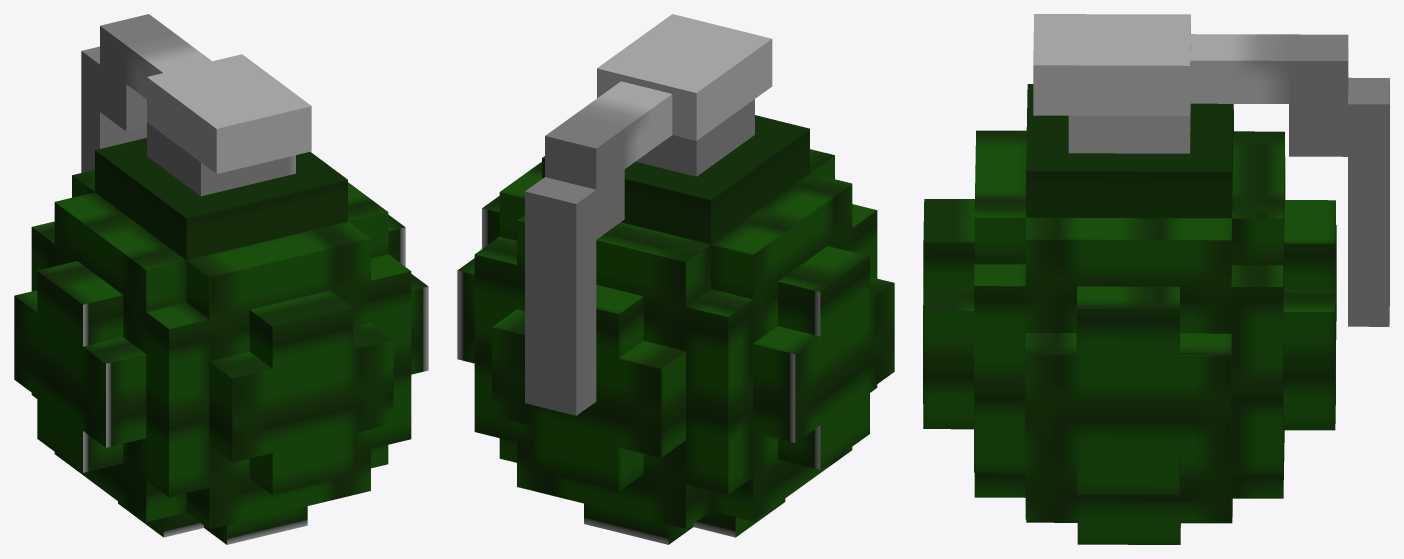
File: qua_luu_dan.fbx
3 views of the same model, side by side, from view 1: azimuth 30°, elevation 25°; view 2: azimuth 150°, elevation 25°; view 3: azimuth 270°, elevation 25° (orthographic). The views are drawn at different scales.
Parts seen in each view (by area): view 1: luu_dan.002; view 2: luu_dan.002; view 3: luu_dan.002.
Boxes of the visible parts, <box> form: luu_dan.002: <box>14,14,428,544</box>; luu_dan.002: <box>457,14,894,544</box>; luu_dan.002: <box>923,14,1389,544</box>.
Size of the model in its own units: 34.31 by 42.23 by 38.74.
